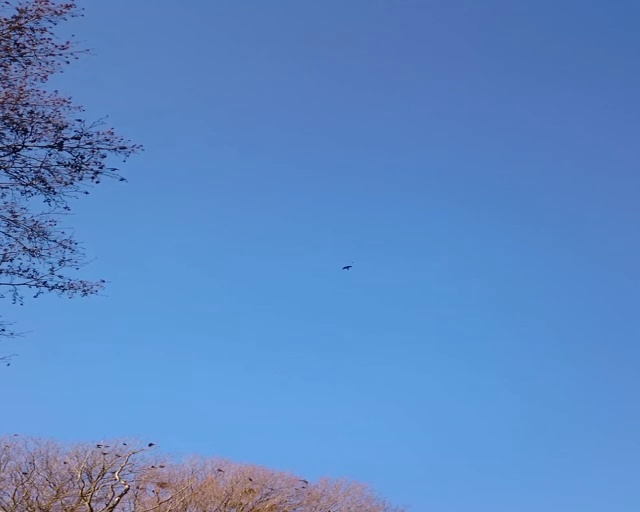BIRD: (342, 264, 353, 269)
